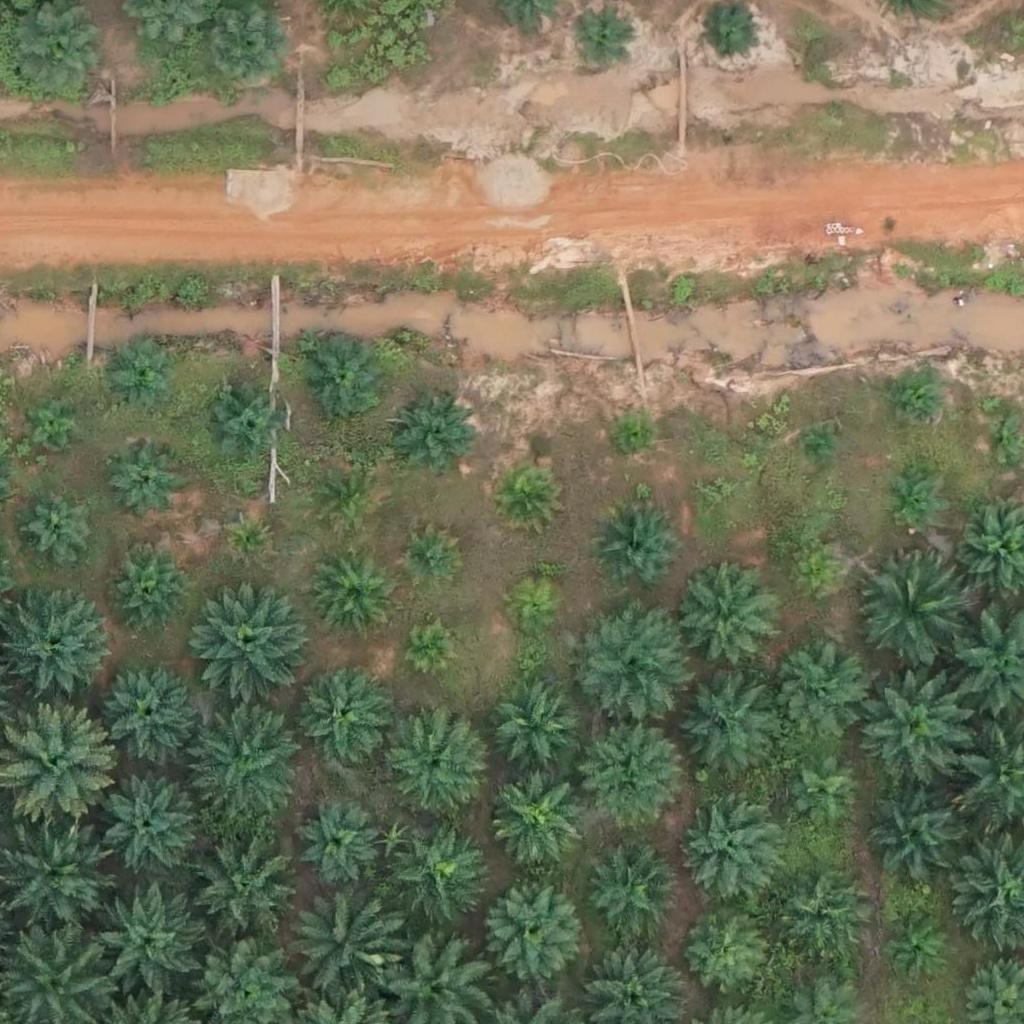Kelapa_Sawit: (193, 581, 306, 695), (84, 886, 197, 1000), (852, 549, 965, 662), (857, 681, 970, 794), (573, 604, 685, 718), (193, 715, 305, 828), (3, 589, 115, 702), (863, 788, 963, 889), (680, 572, 780, 673), (578, 729, 678, 830), (484, 878, 584, 979), (293, 898, 393, 999), (101, 662, 201, 763), (772, 867, 872, 967), (774, 642, 874, 742), (681, 679, 781, 779), (674, 799, 774, 899), (485, 767, 585, 867), (386, 824, 486, 924), (382, 716, 482, 816), (293, 664, 393, 764), (190, 832, 290, 932), (97, 777, 197, 877), (12, 6, 112, 106), (593, 501, 681, 589), (586, 848, 674, 936), (491, 682, 579, 770), (199, 378, 287, 466), (294, 801, 382, 889), (105, 545, 193, 633), (683, 910, 770, 998), (300, 334, 387, 422), (309, 549, 396, 637), (202, 3, 289, 91), (396, 402, 471, 478), (105, 444, 180, 520), (786, 749, 861, 824), (107, 341, 170, 404), (886, 915, 949, 978), (496, 462, 559, 525), (566, 4, 629, 67), (28, 496, 90, 559), (319, 468, 381, 531), (506, 581, 556, 632), (889, 371, 939, 421), (884, 474, 934, 524), (408, 624, 458, 674), (403, 532, 453, 582), (30, 401, 80, 451), (798, 432, 836, 470), (612, 416, 649, 454), (788, 551, 825, 588), (227, 517, 264, 554), (701, 479, 726, 505)
